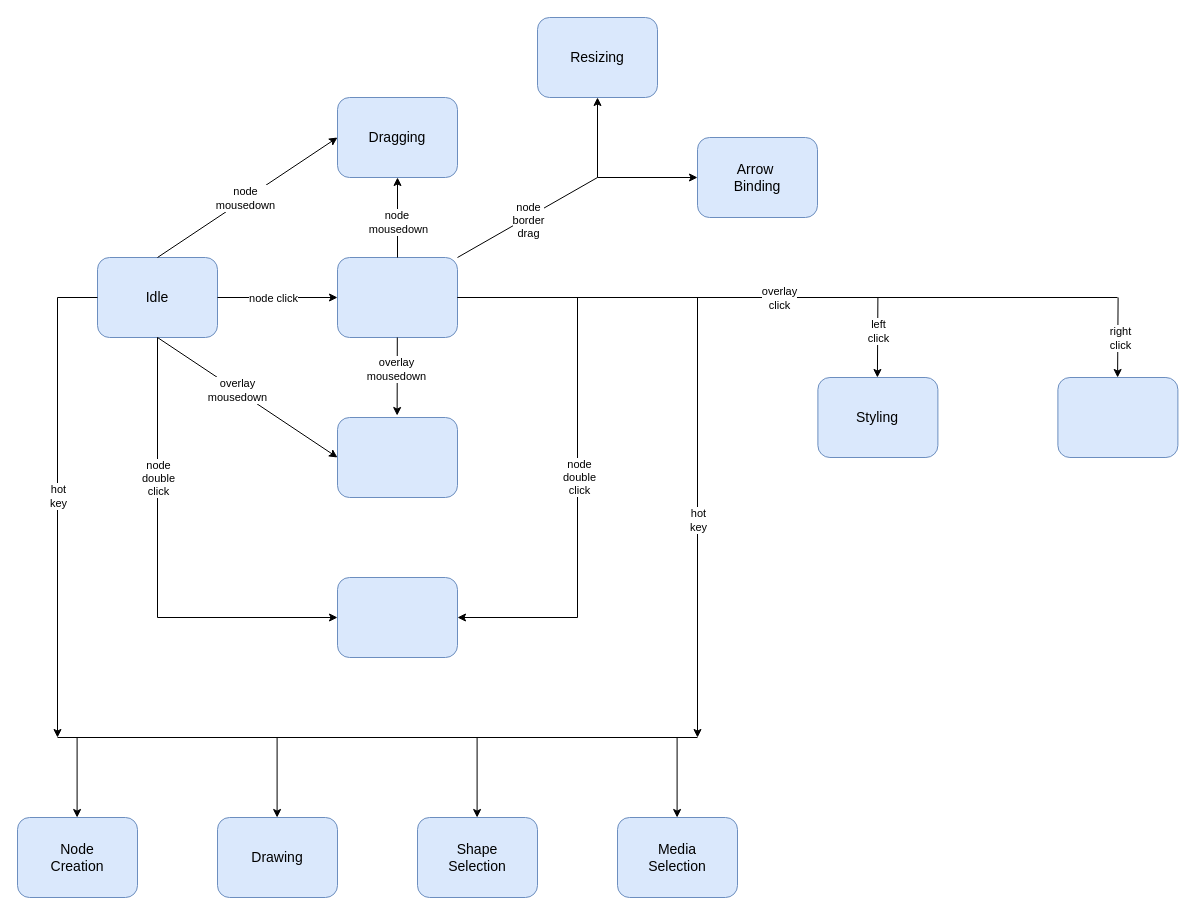
Image size: 1196x915. Some labels were removed from this diagram. The shapes that lost their labels are listed below. From the top down, each one's centre as x and y in pixels, then its label:
[397,297]: Selection
[1117,417]: Nodes Context Menu
[397,457]: Selection Window
[397,617]: Editing
